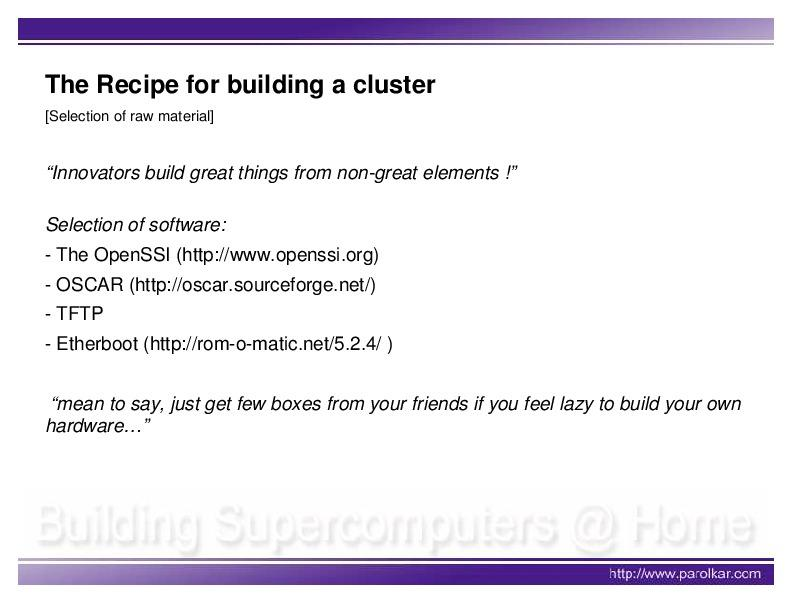paragraph: (33, 144, 762, 450)
title: (42, 67, 455, 106)
